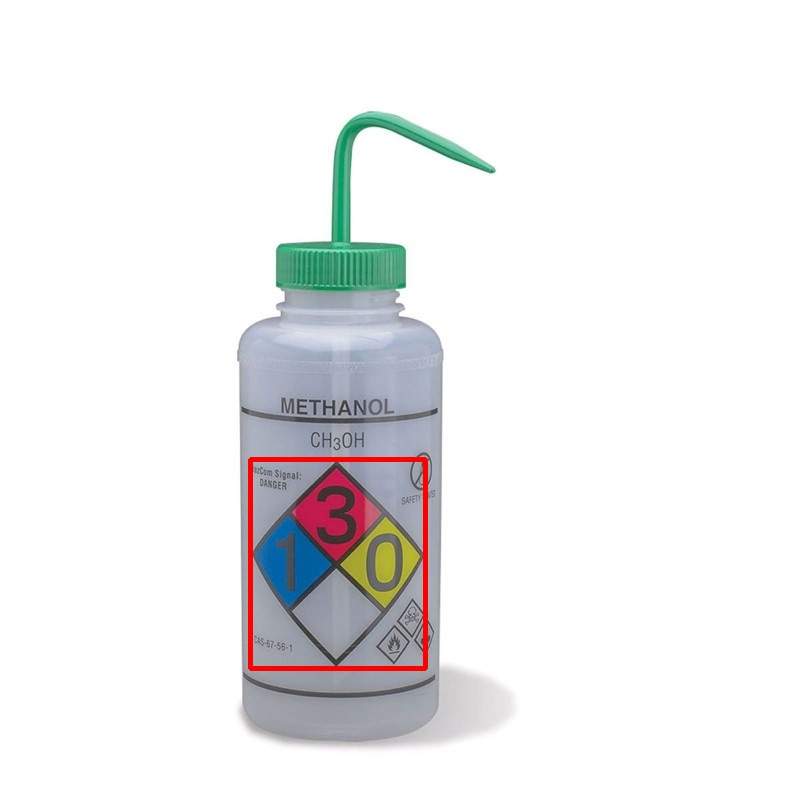nfpa: (250, 459, 425, 668)
